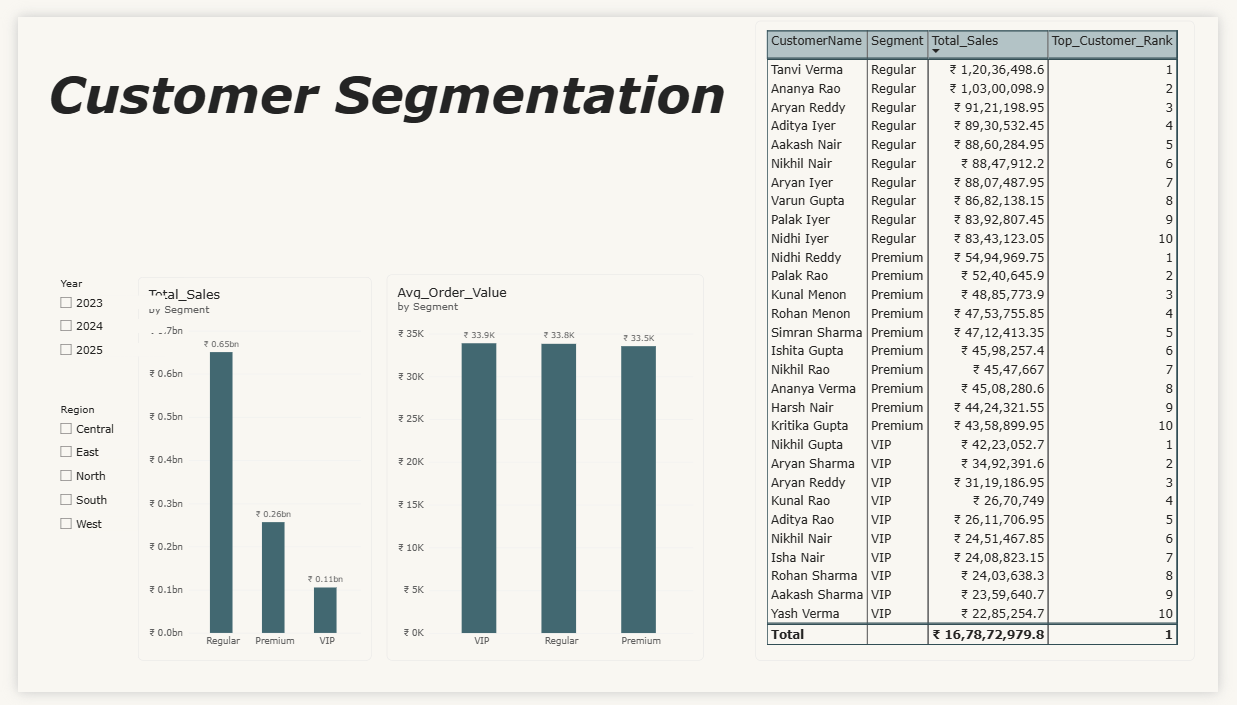

Layout of this report page (visuals, bound fields, positions):
{"tool":"powerbi","page":{"name":"Customer Segmentaion","canvas":[1920,1080],"ordinal":3},"visuals":[{"type":"clusteredColumnChart","fields":{"Category":["Dim_Customer.Segment"],"Y":["_Measures.Total_Sales"]},"box":[192,416,373.6,613.7],"z":0},{"type":"tableEx","fields":{"Values":["Dim_Customer.CustomerName","Dim_Customer.Segment","_Measures.Total_Sales","_Measures.Top_Customer_Rank"]},"box":[1180,6,702,1024],"z":1000},{"type":"columnChart","fields":{"Category":["Dim_Customer.Segment"],"Y":["_Measures.Avg_Order_Value"]},"box":[590,412,507.2,617.9],"z":1001},{"type":"slicer","fields":{"Values":["Dim_Date.Year"]},"box":[60.5,415.4,175.3,160.7],"z":1002},{"type":"slicer","fields":{"Values":["Dim_Customer.Region"]},"box":[60.5,617.9,131.5,215],"z":1003},{"type":"textbox","box":[22,72,1137.6,160.7],"z":1004}]}

Visuals, with their boxes in screenshot pixels (x1, y1, x2, y2), scaled from the page's 1920x1080 canvas onto the 1237x705 screenshot:
clusteredColumnChart - Dim_Customer.Segment x _Measures.Total_Sales: 124:272:364:672
tableEx - Dim_Customer.CustomerName x Dim_Customer.Segment: 760:4:1213:672
columnChart - Dim_Customer.Segment x _Measures.Avg_Order_Value: 380:269:707:672
slicer - Dim_Date.Year: 39:271:152:376
slicer - Dim_Customer.Region: 39:403:124:544
textbox: 14:47:747:152
